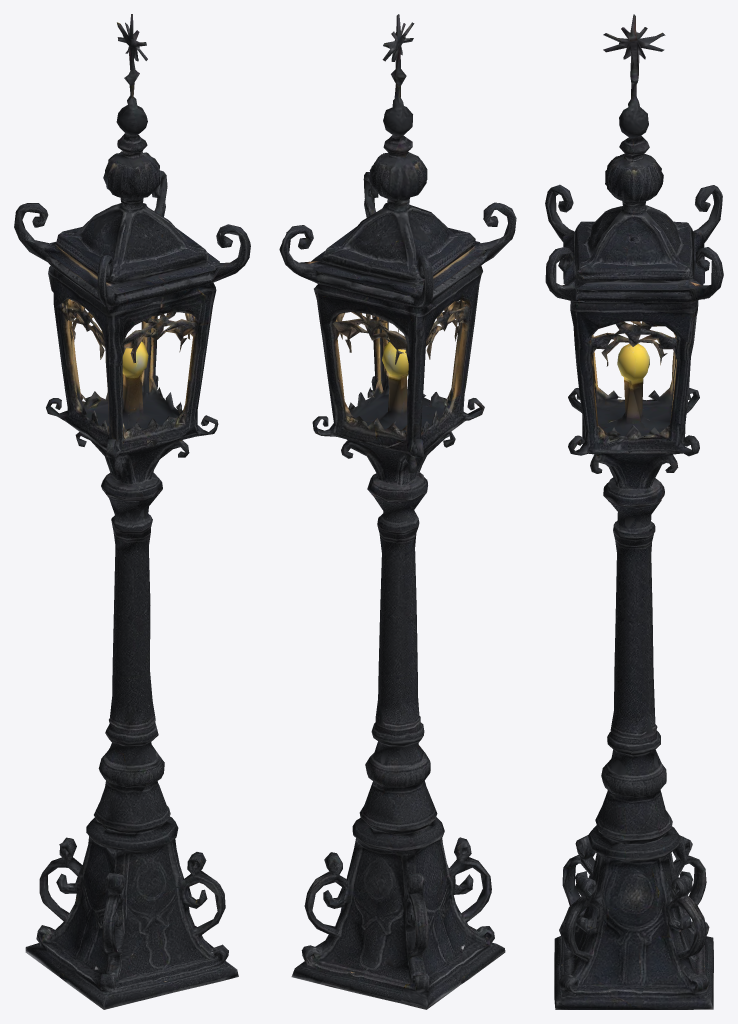
The model's file is gothic-lamp.glb.
The picture shows the model from 3 angles, left to right: view 1: azimuth 30°, elevation 25°; view 2: azimuth 150°, elevation 25°; view 3: azimuth 270°, elevation 25°; orthographic projection.
Bounding box in the file's own units: 0.3204 × 1.9 × 0.3196.
1 material, 1 textured.
